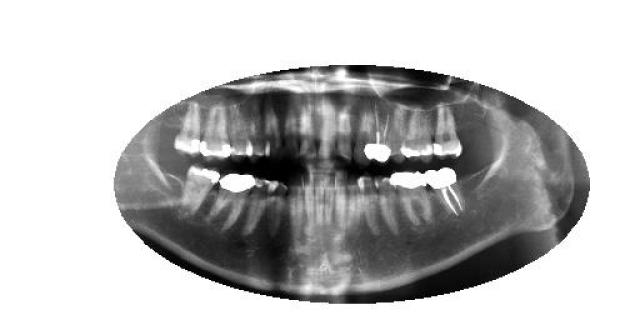Fillings: (204, 174, 255, 231), (391, 172, 434, 222), (181, 164, 220, 212), (202, 100, 232, 160)
Implant: (424, 166, 464, 216), (364, 106, 391, 165)
